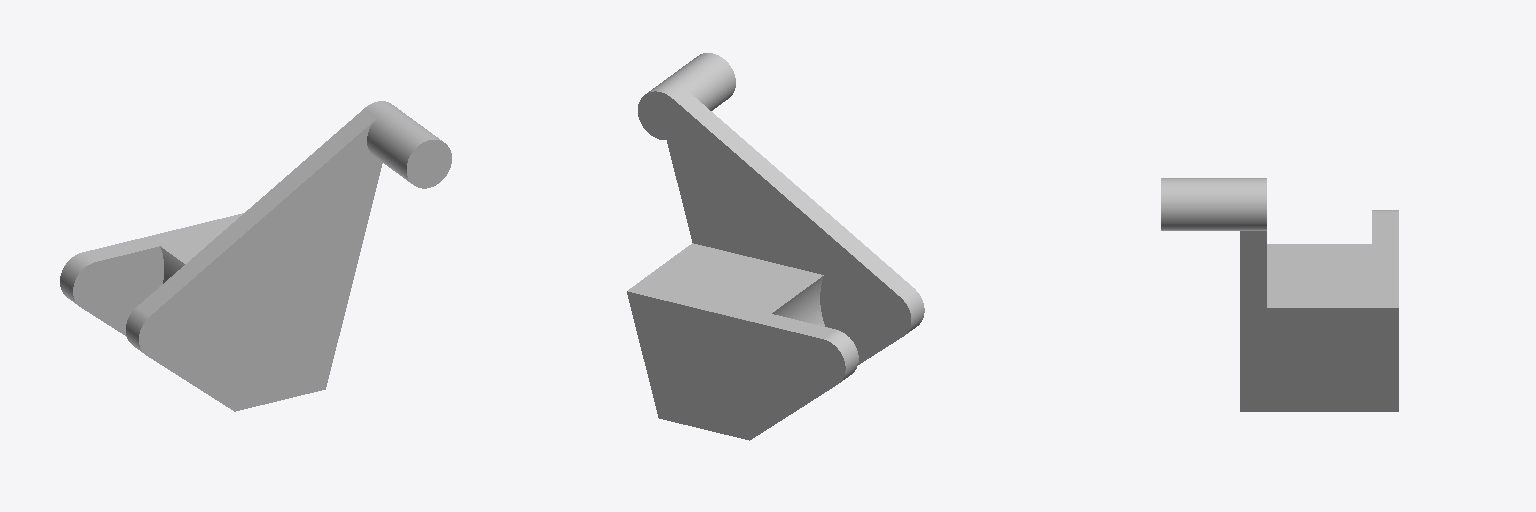
File: Wrist.obj
3 renders of one model, left to right at view 1: azimuth 30°, elevation 25°; view 2: azimuth 150°, elevation 25°; view 3: azimuth 270°, elevation 25°, orthographic.
Parts seen in each view (by area): view 1: Wrist; view 2: Wrist; view 3: Wrist.
Boxes of the visible parts, x1,y1,x2,y2 form: Wrist: [60, 101, 451, 411]; Wrist: [627, 53, 924, 440]; Wrist: [1161, 178, 1398, 411].
Bounding box in the file's own units: 600 × 550 × 450.